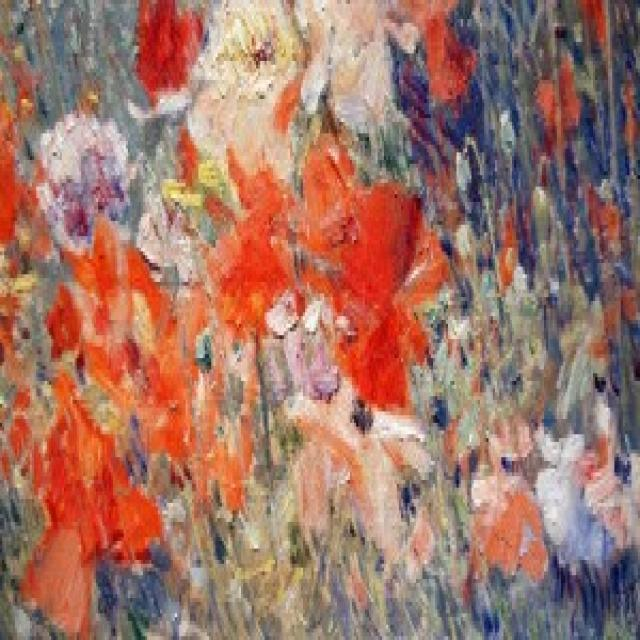Bleached: (3, 1, 637, 640)
